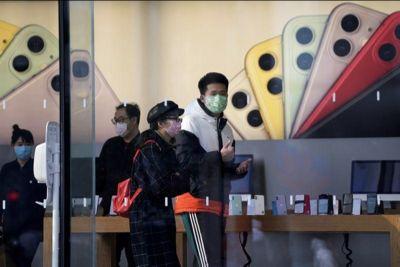with-mask: (154, 105, 188, 144), (201, 79, 228, 118), (110, 107, 136, 140)
